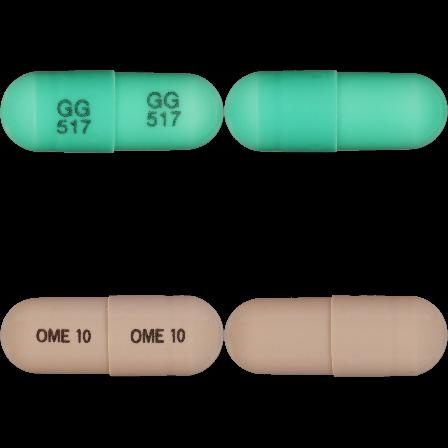0781-2325: (0, 0, 224, 224)
